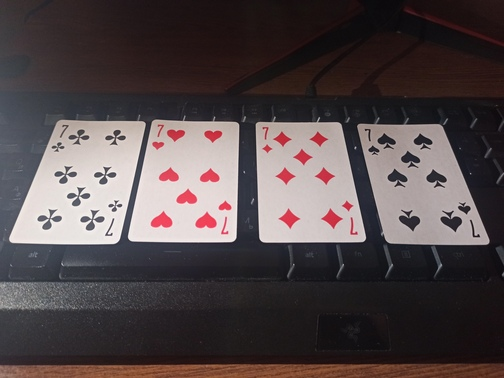sevenclubs: (12, 115, 139, 244)
sevendiamonds: (252, 119, 370, 244)
sevenhearts: (132, 116, 238, 242)
sevenspades: (356, 121, 495, 247)
